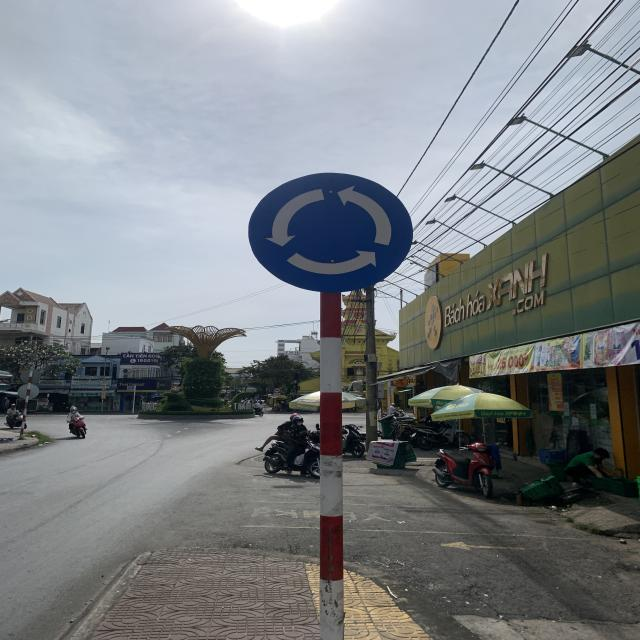Xe_Bus: (250, 173, 412, 292)
